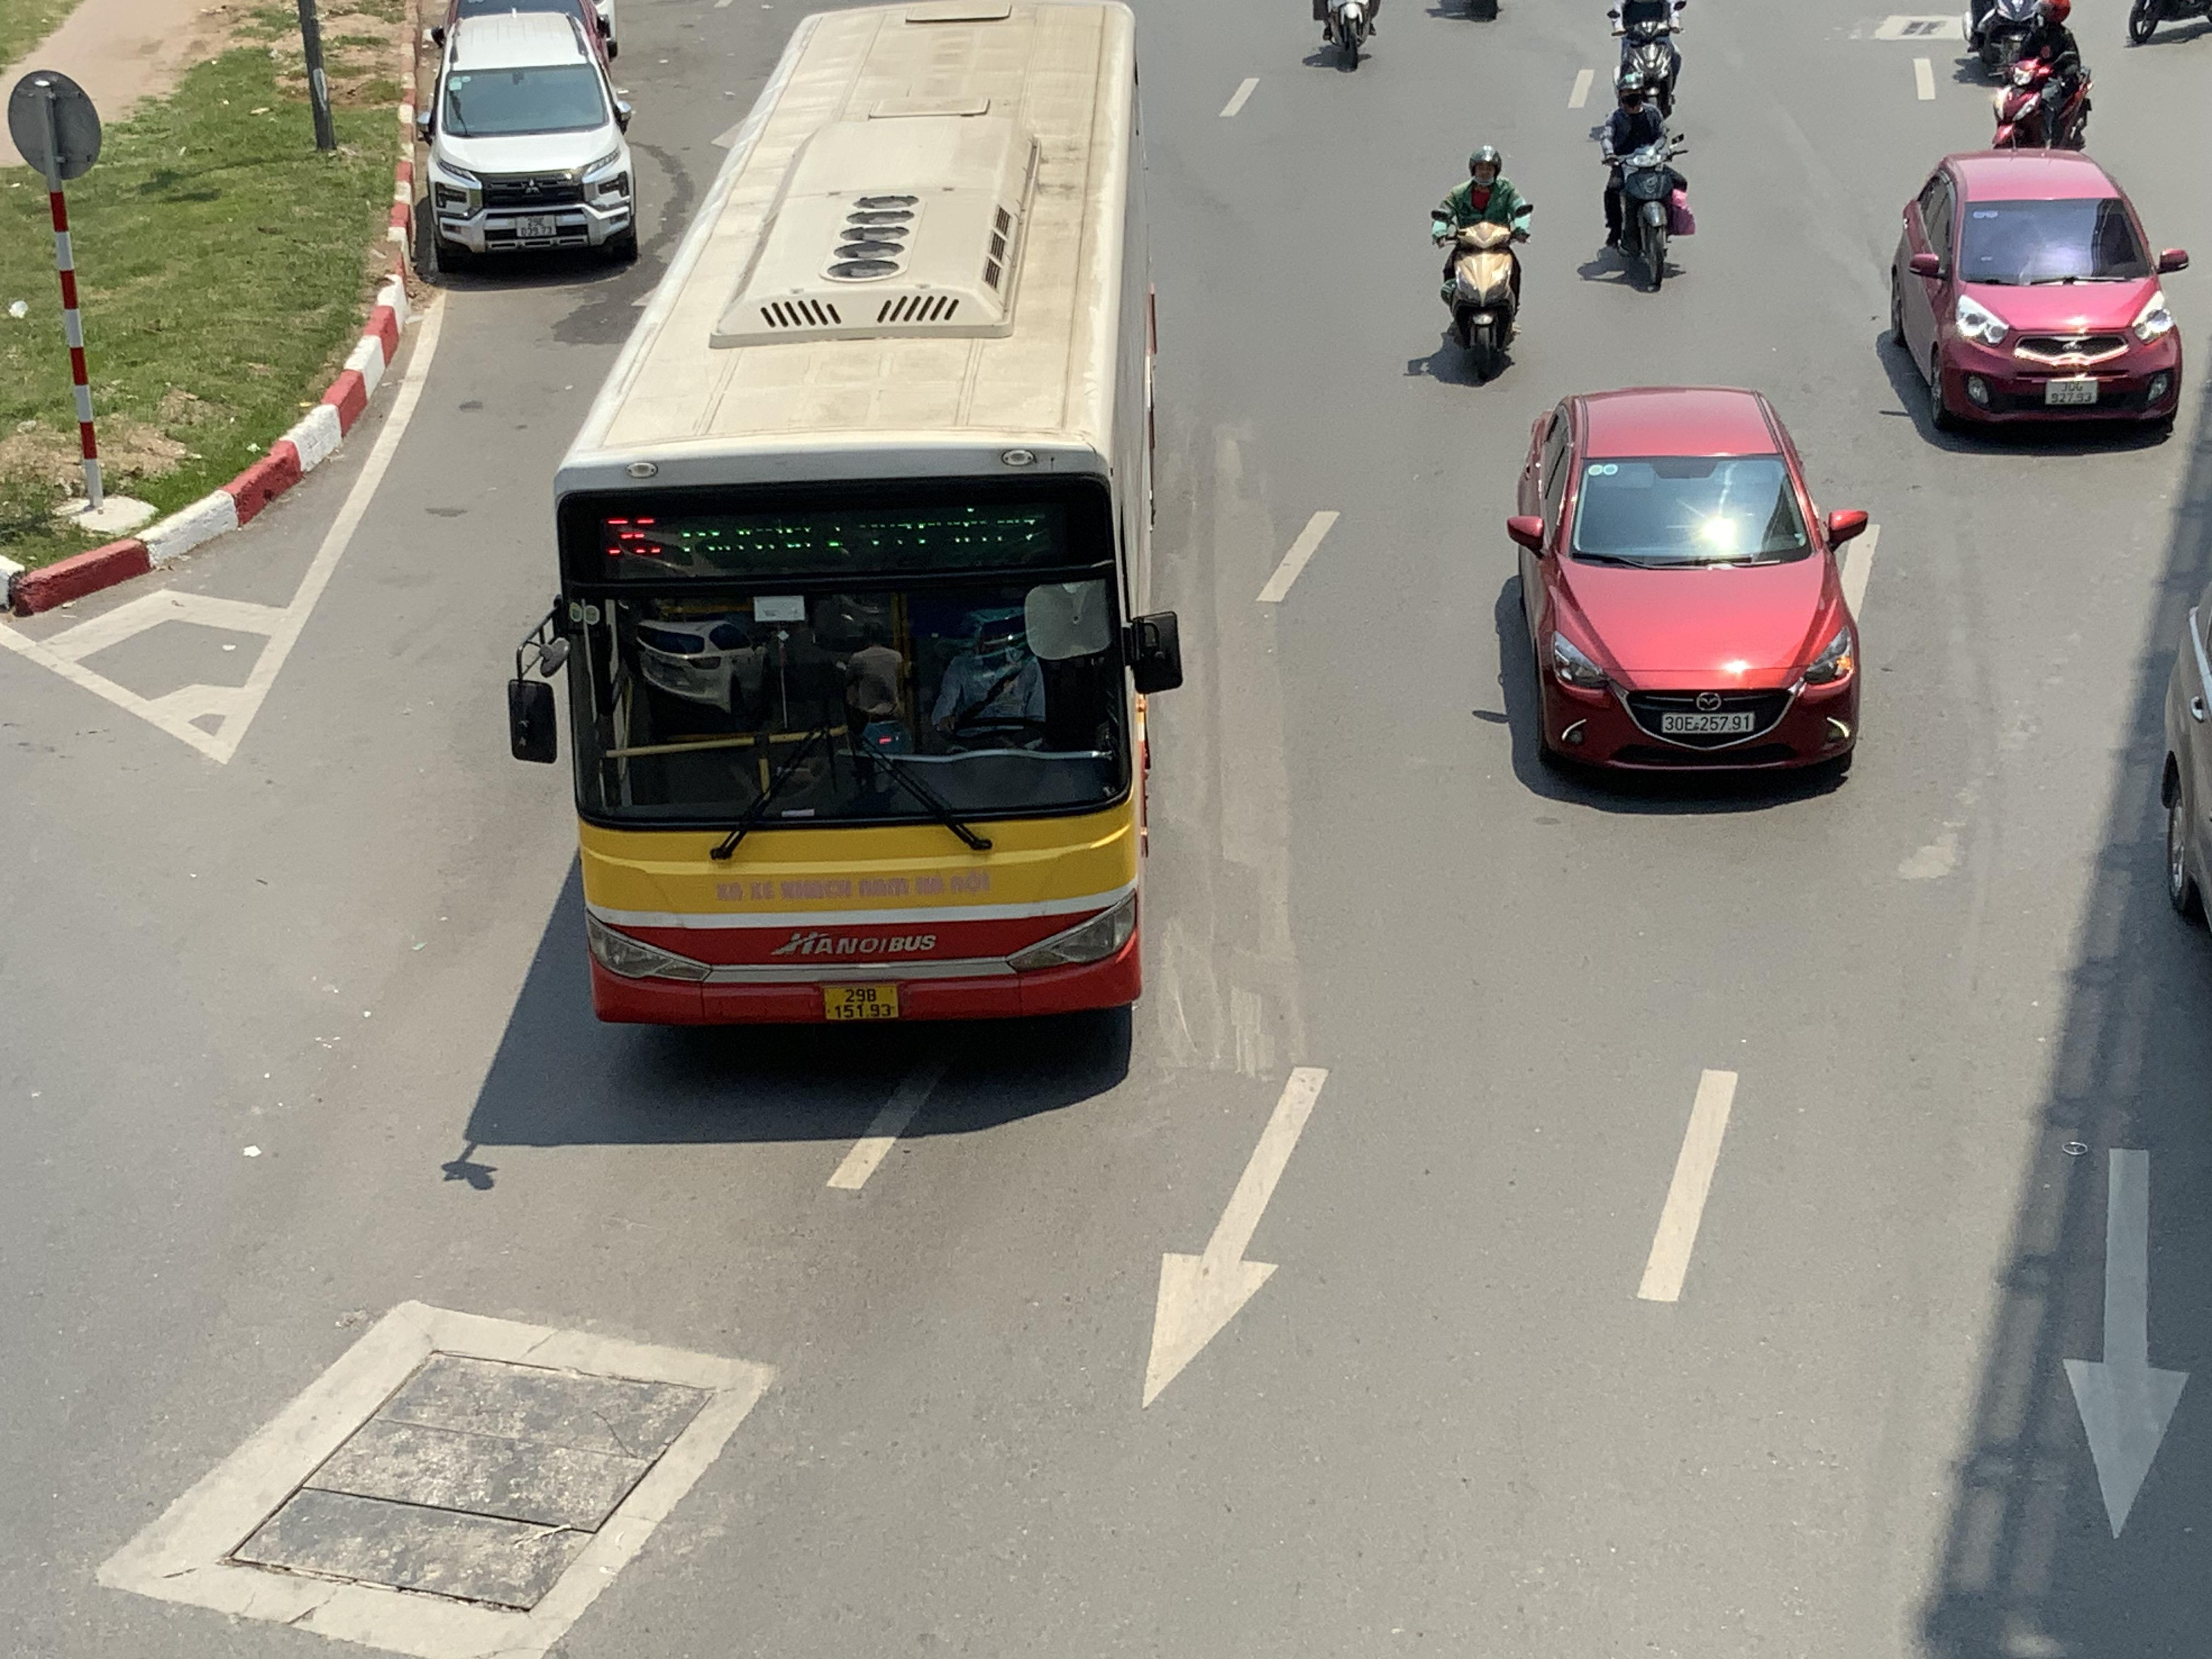BSD: (1662, 711, 1754, 735)
BSV: (824, 983, 899, 1019), (2045, 378, 2097, 404), (516, 214, 557, 237)
bus: (509, 2, 1183, 1039)
car: (1500, 385, 1874, 789), (1883, 146, 2191, 439), (411, 5, 637, 268)
motorbike: (1432, 143, 1531, 385), (1590, 75, 1693, 293), (1989, 3, 2095, 152), (1608, 0, 1688, 117), (1959, 0, 2047, 82), (1310, 0, 1383, 71)
